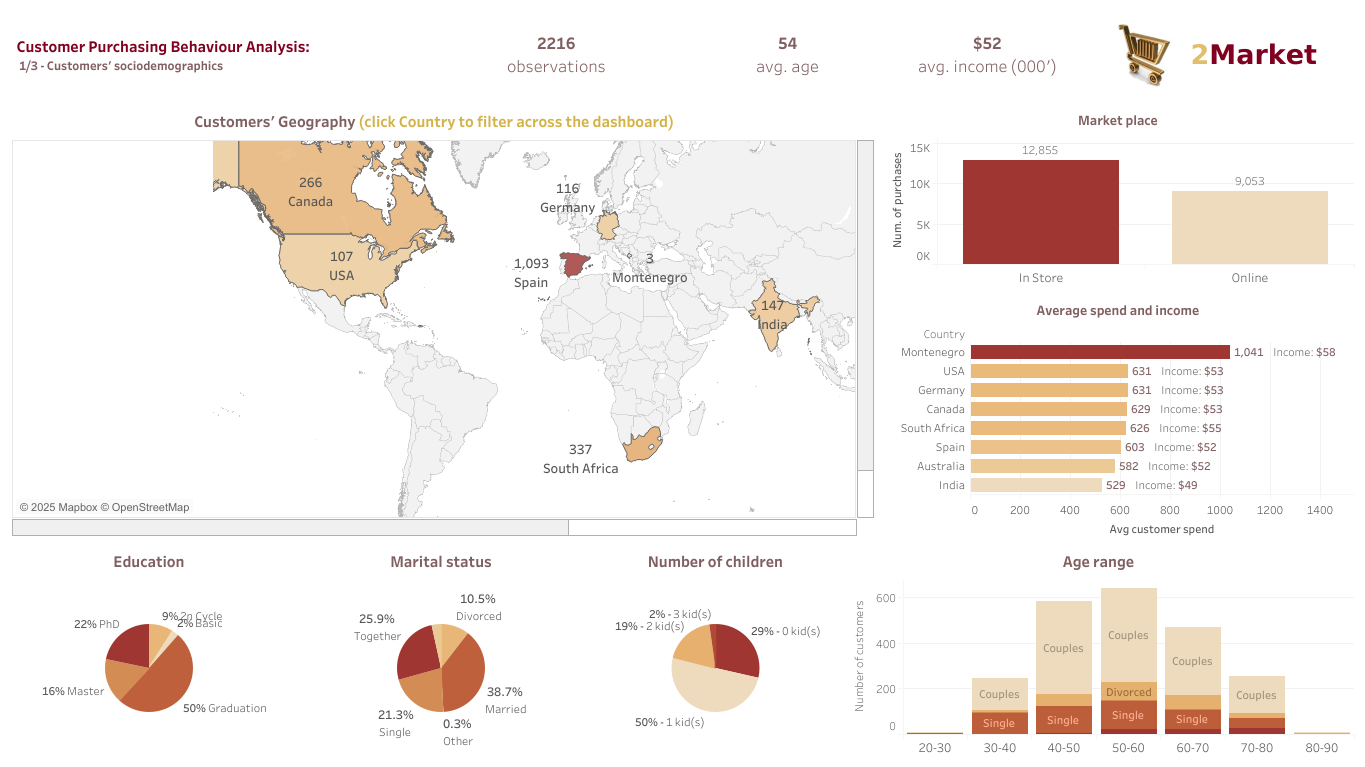

This screenshot's page, from the dashboard's own definition file:
{"tool":"tableau","page":{"name":"SocDem","canvas":[1366,768],"ordinal":1},"visuals":[{"type":"text","box":[8,8,408.3,92.1]},{"type":"worksheet","title":"card_#cust","mark":"Automatic","box":[416.3,8,282,92.1]},{"type":"worksheet","title":"card_avgAge","mark":"Automatic","box":[698.3,8,179.2,92.1]},{"type":"worksheet","title":"card_avgInc","mark":"Automatic","box":[877.5,8,219.4,92.1]},{"type":"image","param":"Image/Picture1.jpg","box":[1097,8,87.2,92.1]},{"type":"text","box":[1184.2,8,173.8,92.1]},{"type":"worksheet","title":"Cnt_Cus","mark":"Multipolygon","box":[8,100.1,870,439.9]},{"type":"worksheet","title":"Online_Instore","mark":"Bar","box":[878,100.1,480,190]},{"type":"worksheet","title":"avgCusS_Cntr_Inc","mark":"Automatic","rows":["Country"],"cols":["Calculation_1982428284440616963"],"box":[878,290.1,480,249.9]},{"type":"worksheet","title":"Educ","mark":"Pie","box":[8,540,282,220]},{"type":"worksheet","title":"Mars","mark":"Pie","box":[290,540,302,220]},{"type":"worksheet","title":"Child","mark":"Pie","box":[592,540,246.7,220]},{"type":"worksheet","title":"Age_Mars","mark":"Bar","rows":["ID"],"cols":["Age (bin)"],"box":[838.7,540,519.3,220]}]}

Visuals, with their boxes in screenshot pixels (x1, y1, x2, y2), scaled from the page's 1366x768 canvas onto the 1365x767 screenshot:
text: region(8, 8, 416, 100)
"card_#cust" worksheet: region(416, 8, 698, 100)
"card_avgAge" worksheet: region(698, 8, 877, 100)
"card_avgInc" worksheet: region(877, 8, 1096, 100)
image: region(1096, 8, 1183, 100)
text: region(1183, 8, 1357, 100)
"Cnt_Cus" worksheet (Multipolygon marks): region(8, 100, 877, 539)
"Online_Instore" worksheet (Bar marks): region(877, 100, 1357, 290)
"avgCusS_Cntr_Inc" worksheet: region(877, 290, 1357, 539)
"Educ" worksheet (Pie marks): region(8, 539, 290, 759)
"Mars" worksheet (Pie marks): region(290, 539, 592, 759)
"Child" worksheet (Pie marks): region(592, 539, 838, 759)
"Age_Mars" worksheet (Bar marks): region(838, 539, 1357, 759)
